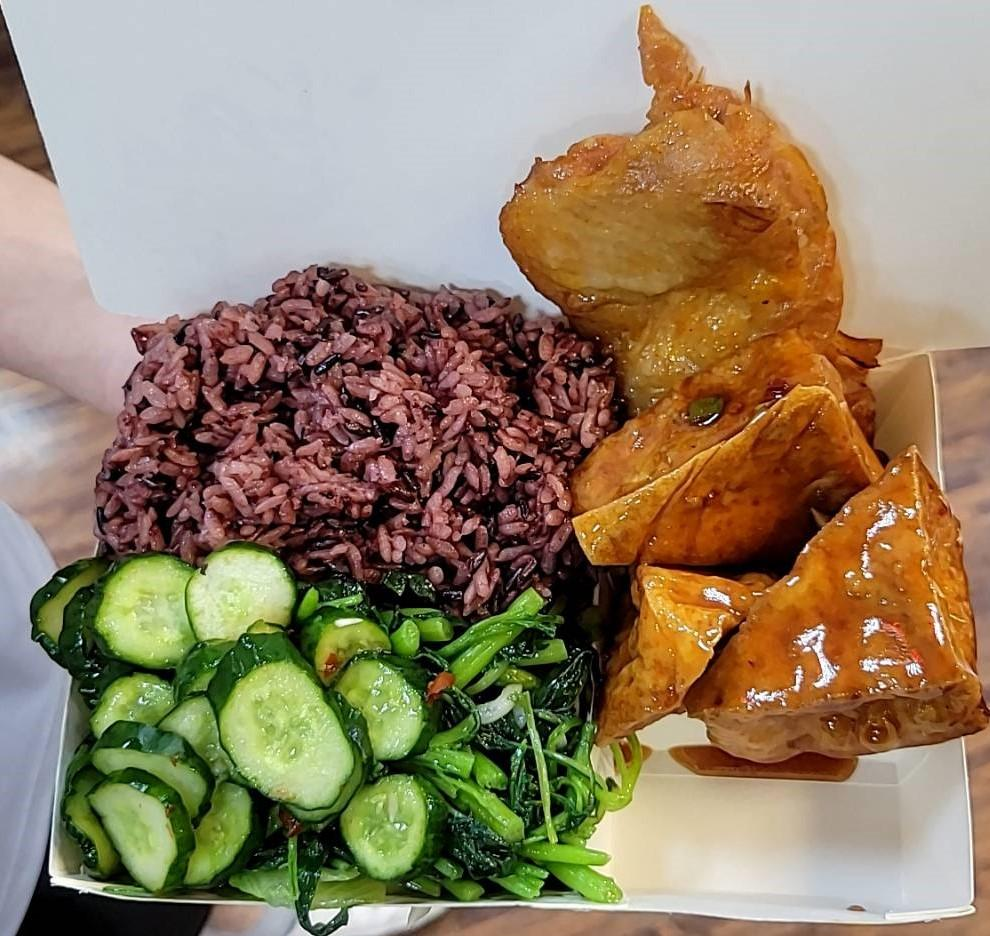big grilled chicken leg: (38, 306, 985, 936)
braised fish: (106, 278, 599, 593)
braised fish fillet: (575, 386, 986, 772), (36, 564, 422, 895), (416, 610, 614, 897)
braised pork: (502, 9, 852, 401)
